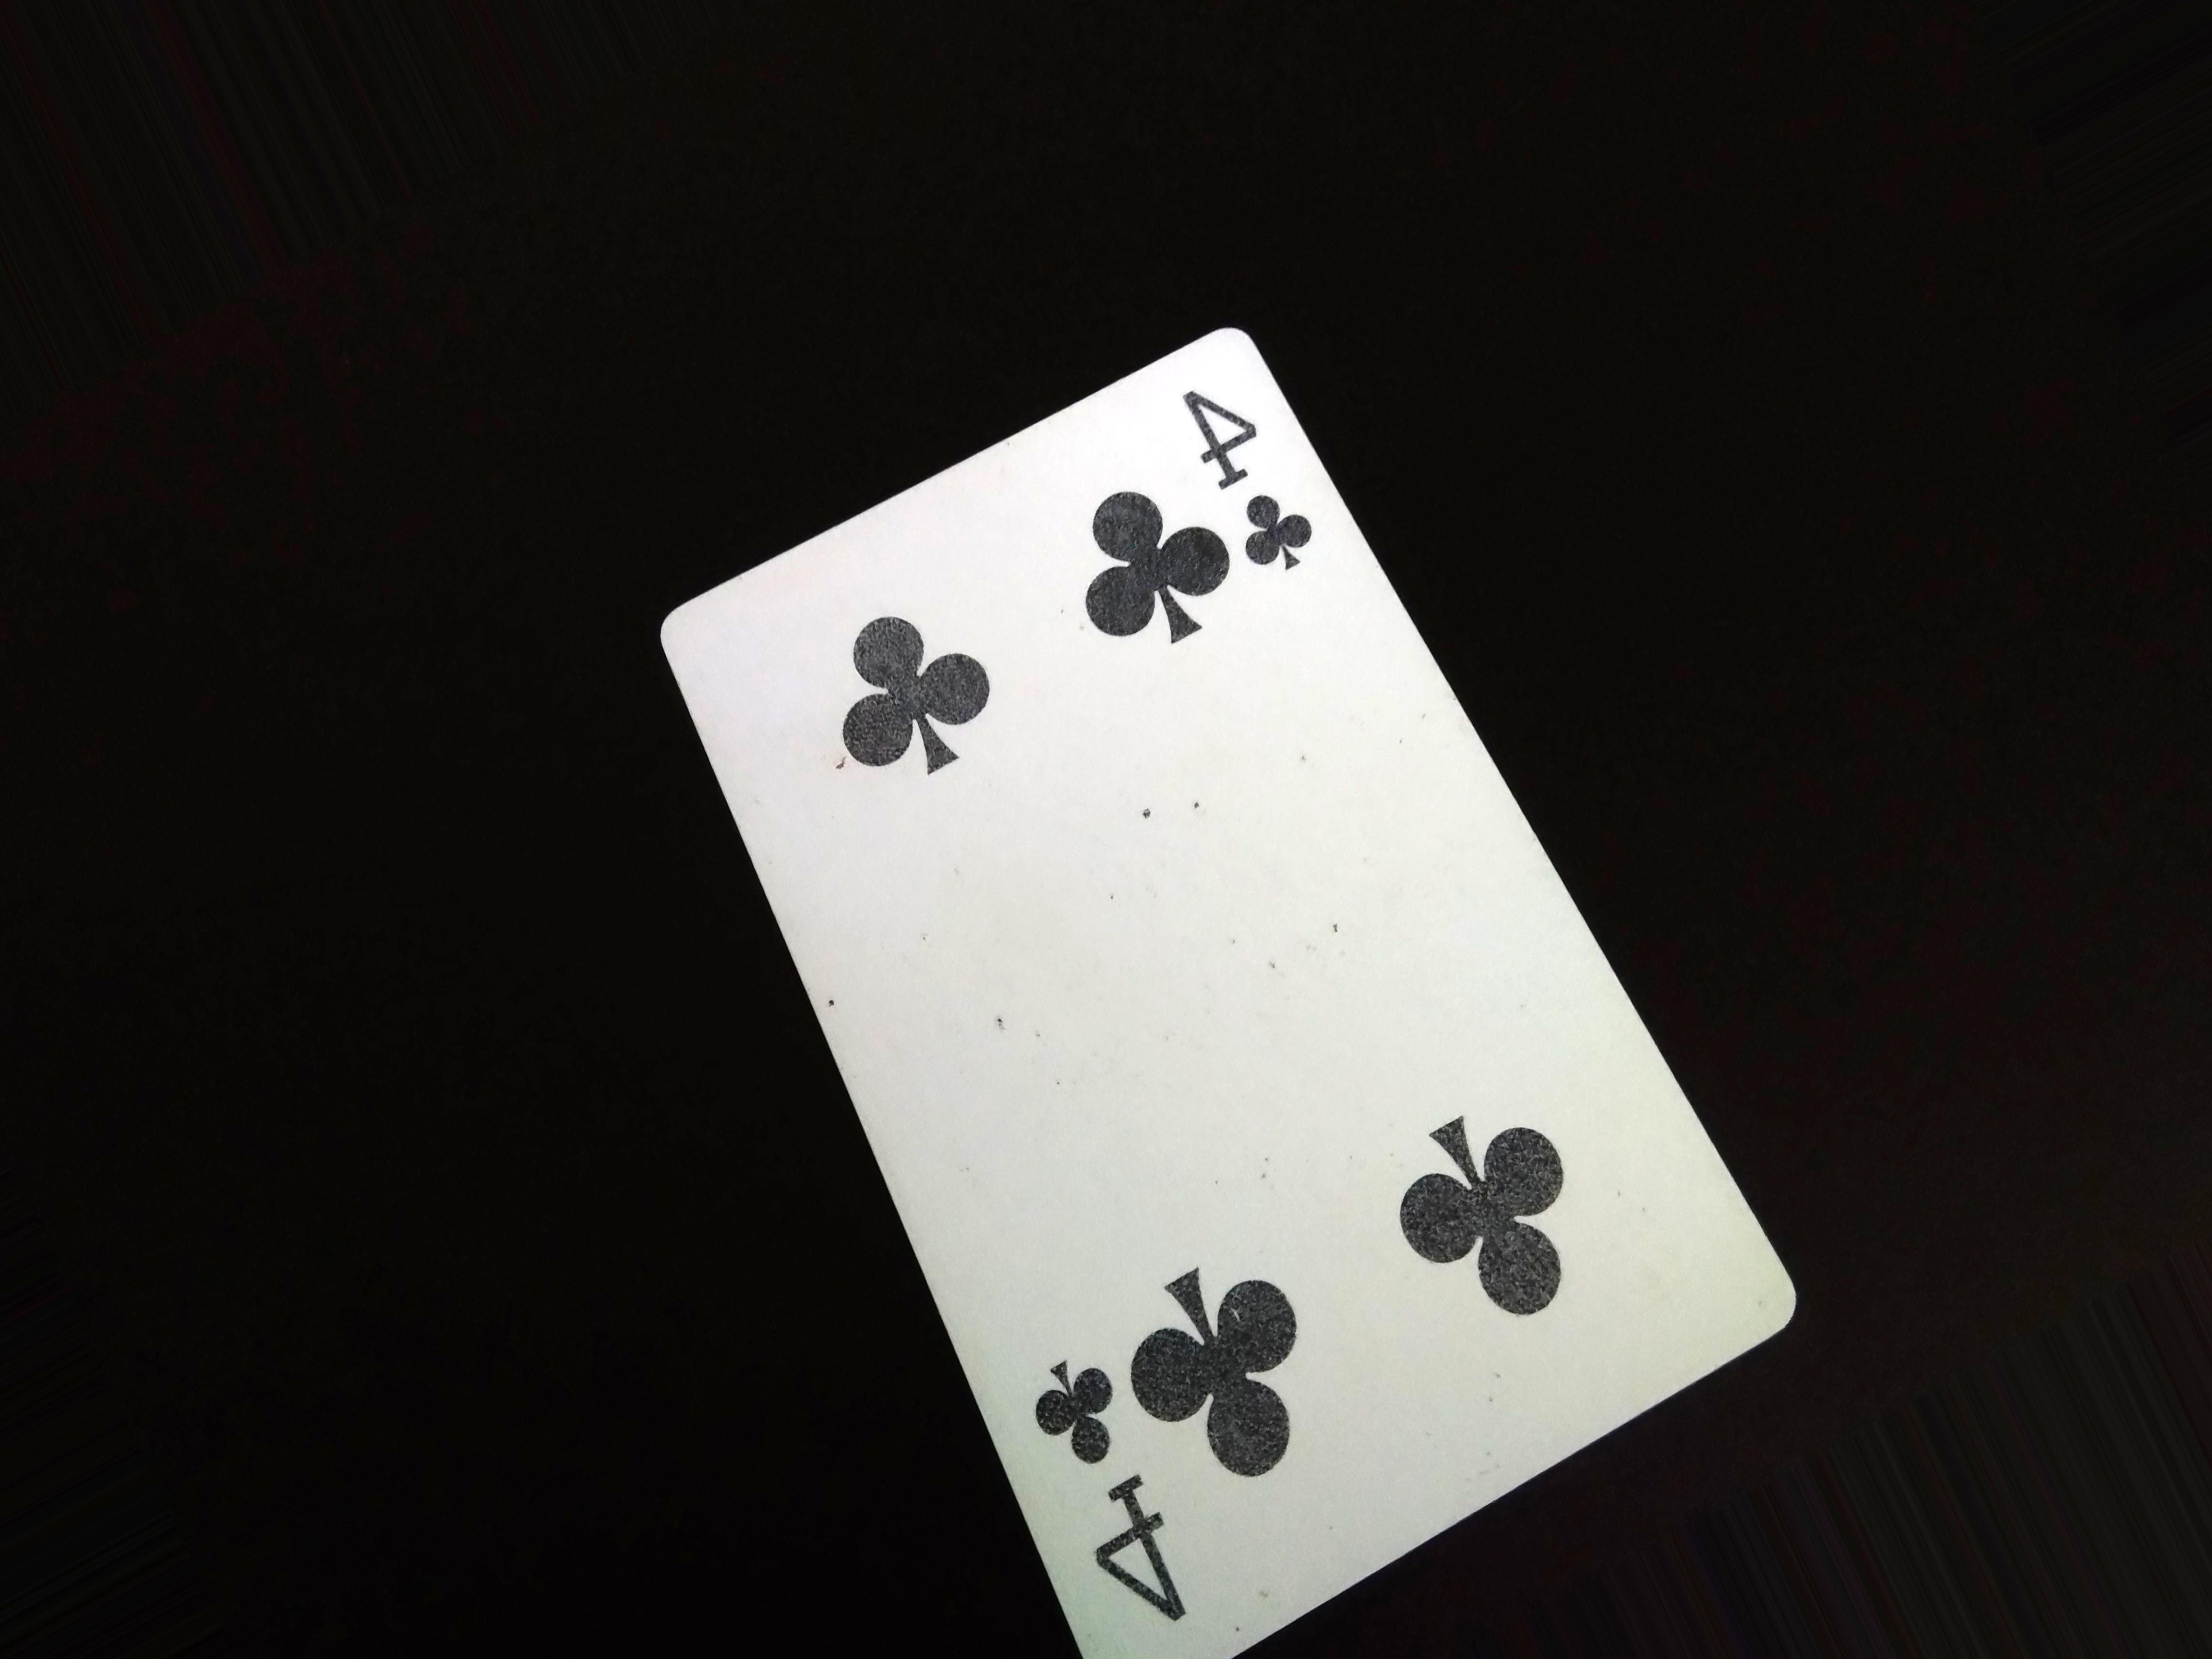4C: (1017, 1354, 1193, 1642)
